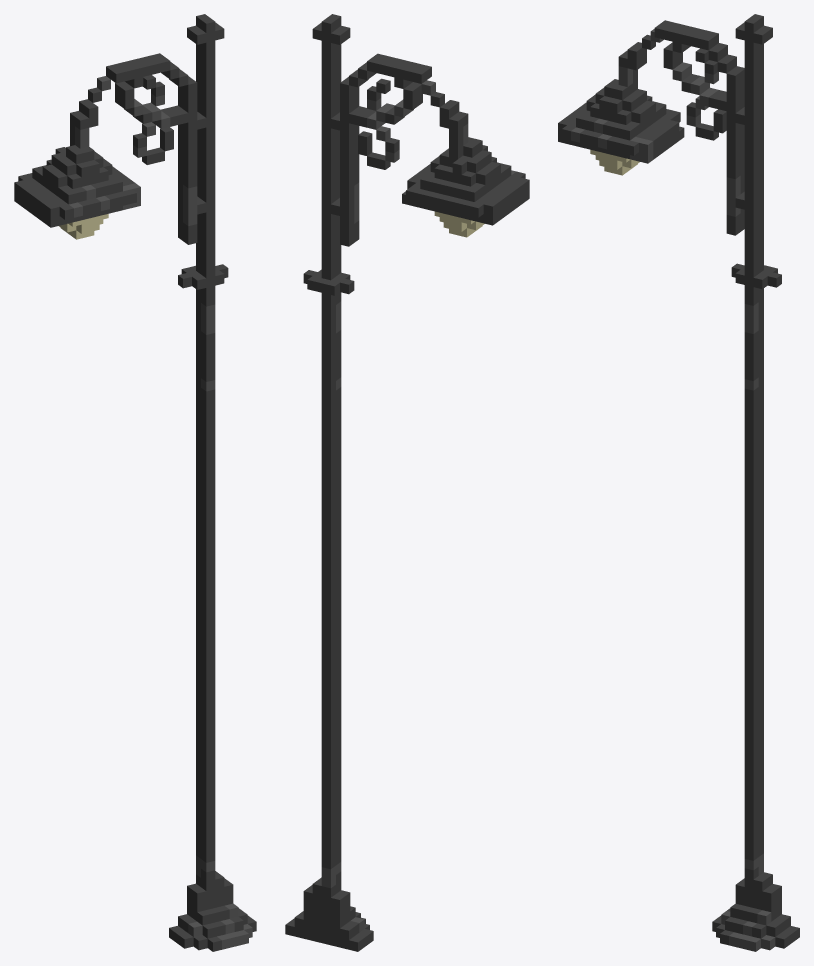
File: drzewko-66.obj
The picture shows the model from 3 angles, left to right: view 1: azimuth 30°, elevation 25°; view 2: azimuth 150°, elevation 25°; view 3: azimuth 330°, elevation 25°; orthographic projection.
Size of the model in its own units: 2.4 by 9.7 by 0.9.
Materials: 1 (1 with a texture image).
